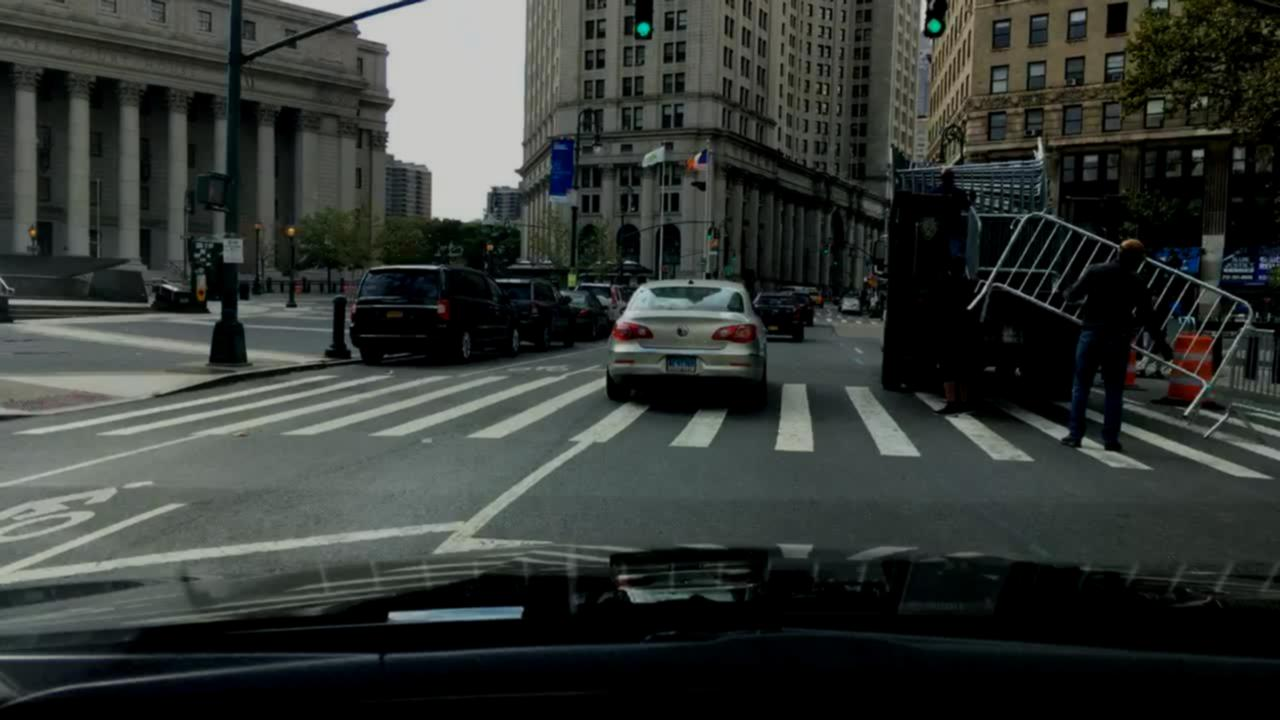Chrysler: (376, 297, 416, 306)
Volkswagen: (671, 322, 697, 343)
